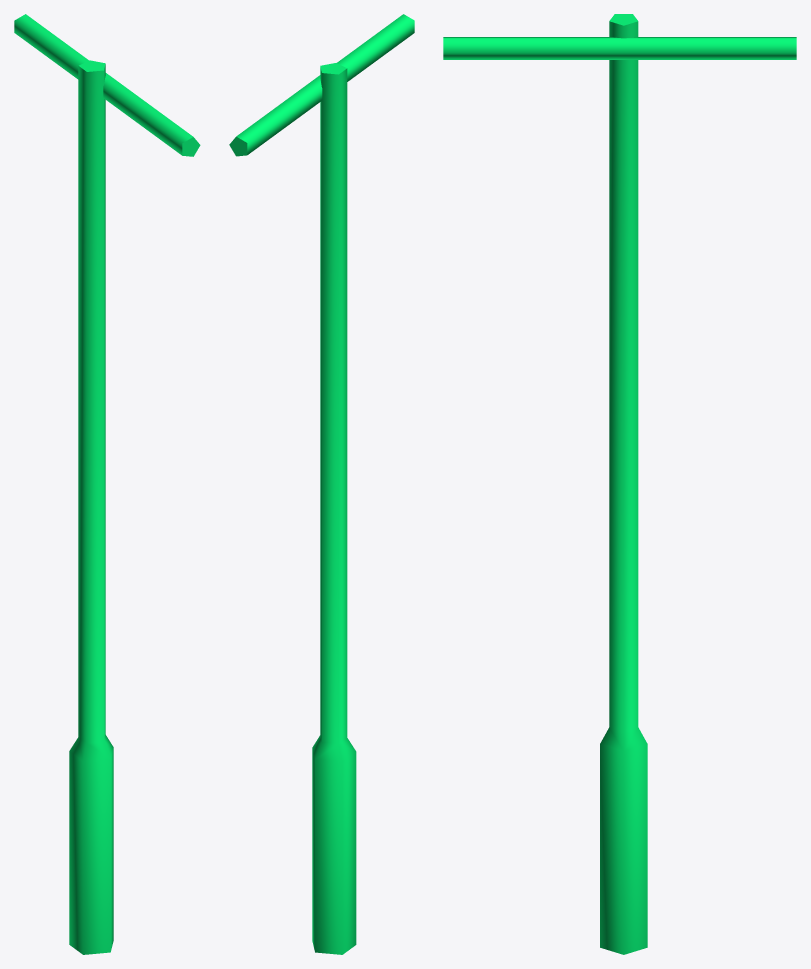
Rendered from Banner2_Collision.FBX.
The picture shows the model from 3 angles, left to right: view 1: azimuth 30°, elevation 25°; view 2: azimuth 150°, elevation 25°; view 3: azimuth 270°, elevation 25°; orthographic projection. The views are drawn at different scales.
Visible parts, largest first — view 1: Banner2_Collision; view 2: Banner2_Collision; view 3: Banner2_Collision.
Boxes of the visible parts, left/top/right/bottom form: Banner2_Collision: left=14, top=14, right=200, bottom=954; Banner2_Collision: left=229, top=14, right=414, bottom=954; Banner2_Collision: left=443, top=14, right=796, bottom=954.
Bounding box in the file's own units: 0.7887 × 17.22 × 5.96.
